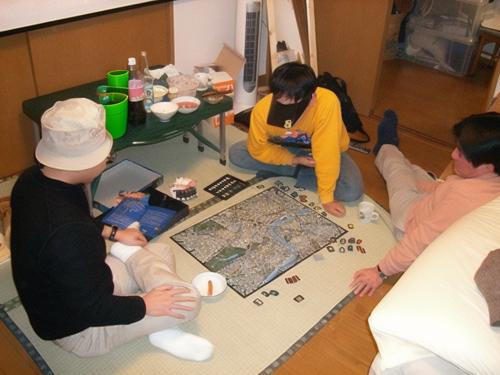bottle: (121, 57, 150, 128), (135, 52, 155, 114)
person: (12, 99, 216, 363), (357, 107, 500, 292), (231, 65, 366, 218)
person/foot: (149, 325, 214, 363), (110, 221, 141, 262), (384, 109, 400, 145), (373, 119, 384, 154)
person/hand: (143, 284, 195, 320), (349, 267, 383, 298), (113, 227, 146, 246), (321, 201, 346, 217), (292, 153, 315, 167)
person/head: (37, 99, 109, 185), (452, 113, 500, 178), (270, 59, 317, 117)
pottedplant: (105, 68, 129, 138)
